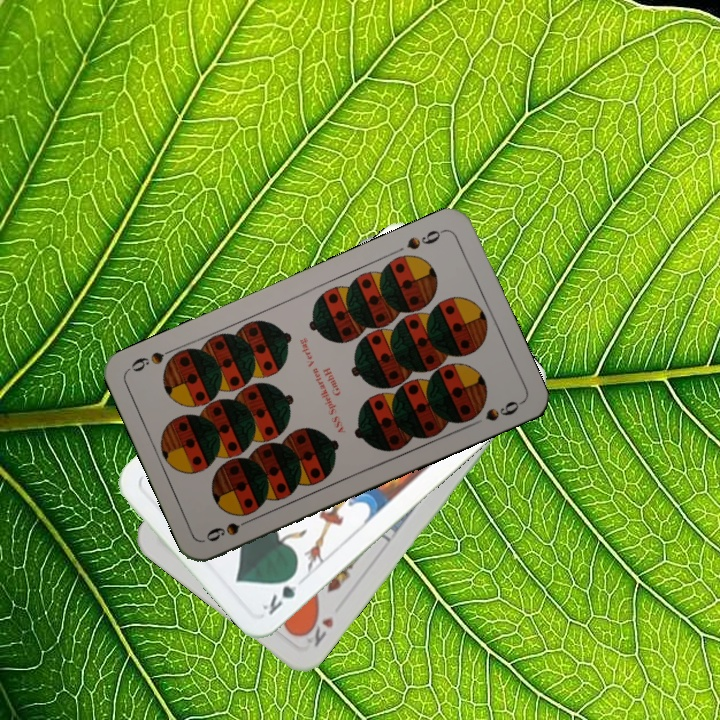GK: (258, 568, 308, 618)
HK: (297, 610, 336, 650)
S9: (201, 513, 258, 545), (402, 225, 448, 252)
